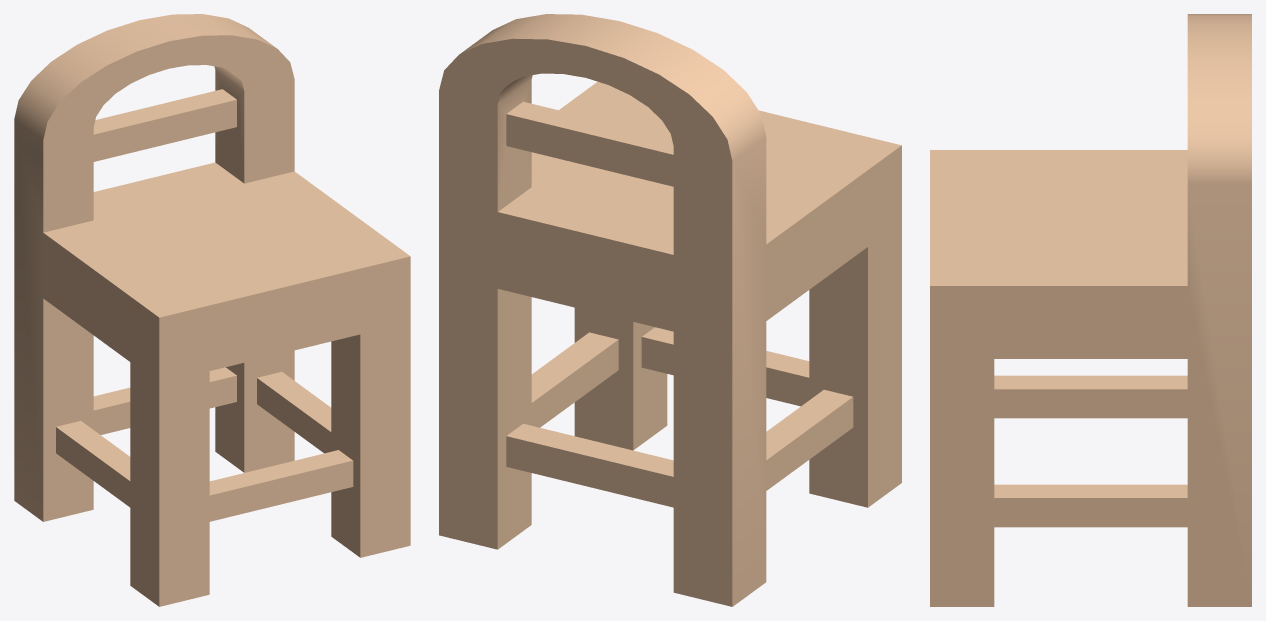
File: chairRounded_low_back.glb
The picture shows the model from 3 angles, left to right: view 1: azimuth 30°, elevation 25°; view 2: azimuth 150°, elevation 25°; view 3: azimuth 270°, elevation 25°; orthographic projection. The views are drawn at different scales.
Parts seen in each view (by area): view 1: chairRounded(Clone); view 2: chairRounded(Clone); view 3: chairRounded(Clone).
Part boxes in pixels (bbox=[...]): chairRounded(Clone): bbox=[14, 14, 410, 606]; chairRounded(Clone): bbox=[439, 14, 901, 606]; chairRounded(Clone): bbox=[930, 14, 1251, 606].
Size of the model in its own units: 0.2 by 0.3422 by 0.2.
